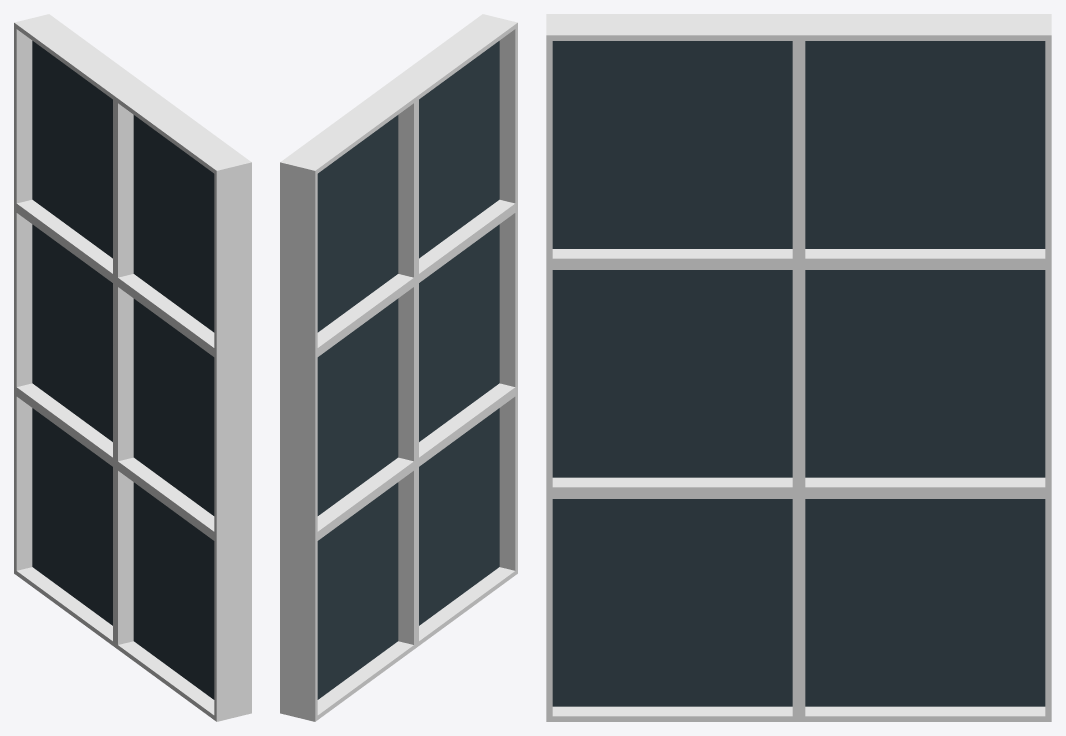
File: Janela2x3.fbx
3 renders of one model, left to right at view 1: azimuth 30°, elevation 25°; view 2: azimuth 150°, elevation 25°; view 3: azimuth 270°, elevation 25°, orthographic. The views are drawn at different scales.
Visible parts, largest first — view 1: Janela2x3; view 2: Janela2x3; view 3: Janela2x3.
Boxes of the visible parts, <box> form: Janela2x3: <box>14,14,251,721</box>; Janela2x3: <box>280,14,517,721</box>; Janela2x3: <box>546,14,1051,721</box>.
Bounding box in the file's own units: 20 × 300 × 200.
